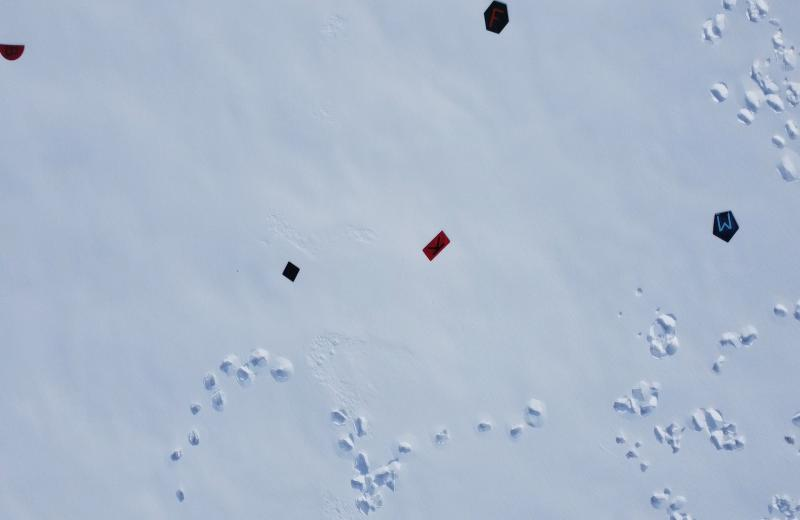Hexagon: (483, 0, 510, 36)
Pentagon: (710, 208, 741, 244)
Rectangle: (419, 229, 453, 262)
Semi Circle: (0, 41, 26, 64)
Square: (280, 258, 302, 285)
